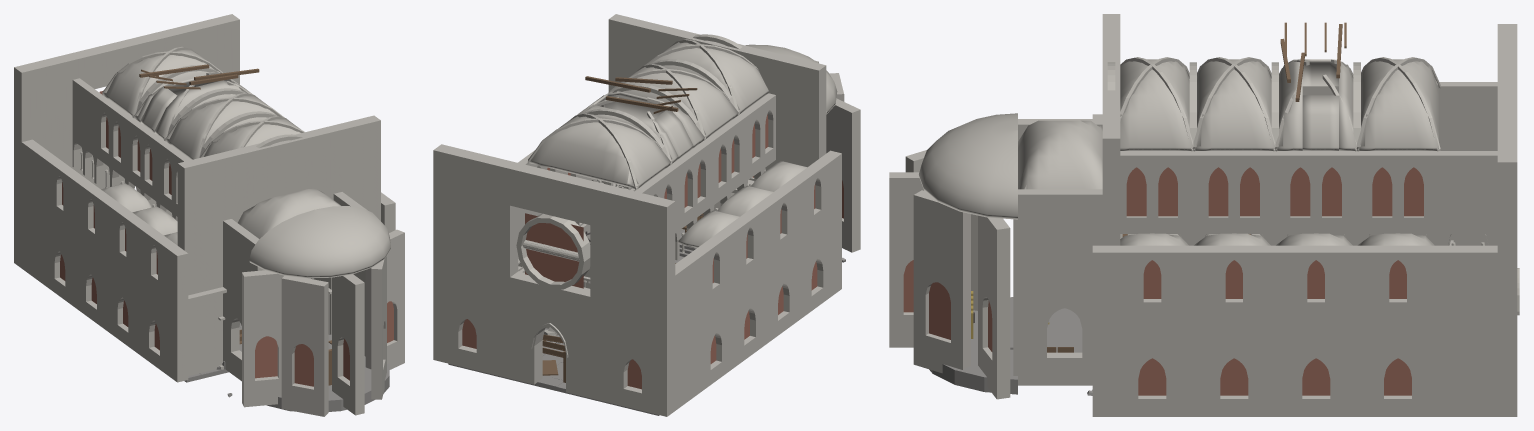
The model's file is igreja_interior.glb.
3 renders of one model, left to right at view 1: azimuth 30°, elevation 25°; view 2: azimuth 150°, elevation 25°; view 3: azimuth 270°, elevation 25°, orthographic. The views are drawn at different scales.
Parts seen in each view (by area): view 1: SM_igr_f_pedra, SM_igr_a_pedra, SM_igr_e_pedra, SM_igr_c_pedra, SM_igr_d_pedra, SM_igr_b_pedra, SM_igr_f_vitral_larga, SM_igr_f_pedra_esc, SM_igr_c_madeira; view 2: SM_igr_a_pedra, SM_igr_e_pedra, SM_igr_f_pedra, SM_igr_c_pedra, SM_igr_d_pedra, SM_igr_b_pedra, SM_igr_a_vitral_rosacea, SM_igr_c_madeira, SM_igr_a_pedra_esc, SM_igr_a_vitral_larga_roto; view 3: SM_igr_f_pedra, SM_igr_e_pedra, SM_igr_a_pedra, SM_igr_c_pedra, SM_igr_d_pedra, SM_igr_b_pedra, SM_igr_f_pedra_esc, SM_igr_e_vitral_lanceta, SM_igr_c_vitral_lanceta, SM_igr_b_vitral_lanceta, SM_igr_d_vitral_lanceta, SM_igr_f_vitral_larga (+5 smaller).
Part boxes in pixels (x1,y1,x2,y2): SM_igr_f_pedra: (177,115,404,416); SM_igr_a_pedra: (14,14,239,292); SM_igr_e_pedra: (126,111,395,382); SM_igr_c_pedra: (63,65,314,323); SM_igr_d_pedra: (95,88,324,346); SM_igr_b_pedra: (54,46,222,299); SM_igr_f_vitral_larga: (255,301,393,386); SM_igr_f_pedra_esc: (184,334,389,411); SM_igr_c_madeira: (139,64,259,89); SM_igr_a_pedra: (433,144,712,416); SM_igr_e_pedra: (597,39,841,326); SM_igr_f_pedra: (608,14,860,252); SM_igr_c_pedra: (518,90,775,376); SM_igr_d_pedra: (583,64,789,351); SM_igr_b_pedra: (518,113,721,384); SM_igr_a_vitral_rosacea: (525,213,583,288); SM_igr_c_madeira: (585,76,697,113); SM_igr_a_pedra_esc: (448,358,659,415); SM_igr_a_vitral_larga_roto: (462,319,641,389); SM_igr_f_pedra: (889,14,1127,399); SM_igr_e_pedra: (1092,57,1225,416); SM_igr_a_pedra: (1407,24,1519,416); SM_igr_c_pedra: (1120,59,1497,416); SM_igr_d_pedra: (1193,57,1307,416); SM_igr_b_pedra: (1357,57,1453,416); SM_igr_f_pedra_esc: (929,297,1092,395); SM_igr_e_vitral_lanceta: (1126,167,1177,298); SM_igr_c_vitral_lanceta: (1290,167,1341,298); SM_igr_b_vitral_lanceta: (1372,167,1423,298); SM_igr_d_vitral_lanceta: (1208,167,1259,298); SM_igr_f_vitral_larga: (903,260,992,351).
Size of what is drawn, in the model's own units: 28 by 28.3 by 53.9.
